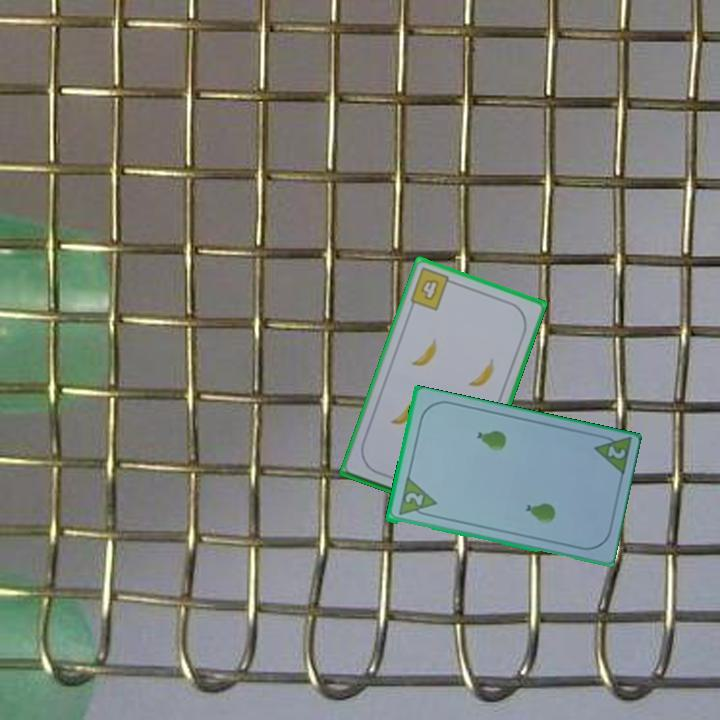2p: (590, 431, 633, 480), (395, 476, 439, 521)
4b: (406, 264, 458, 313)
